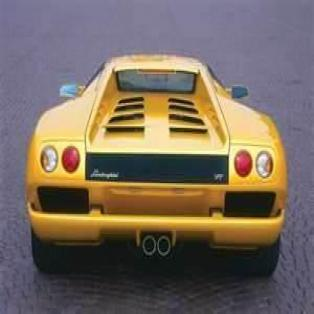Auto: (20, 48, 292, 288)
